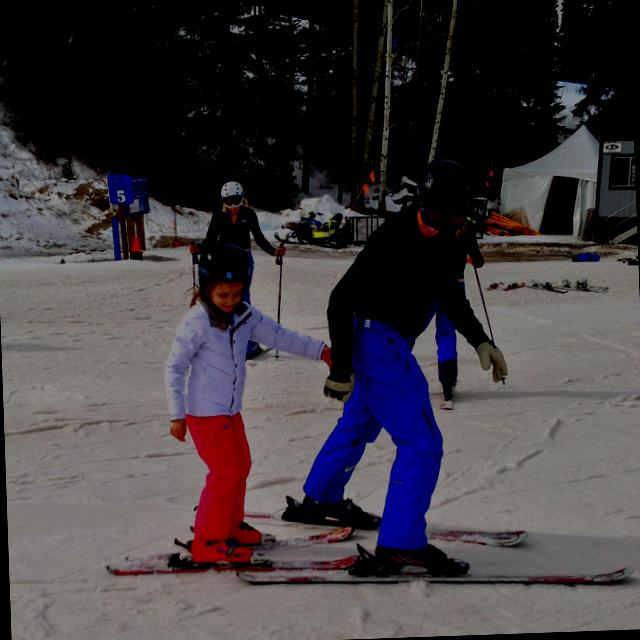Vehicle: (292, 210, 352, 250)
